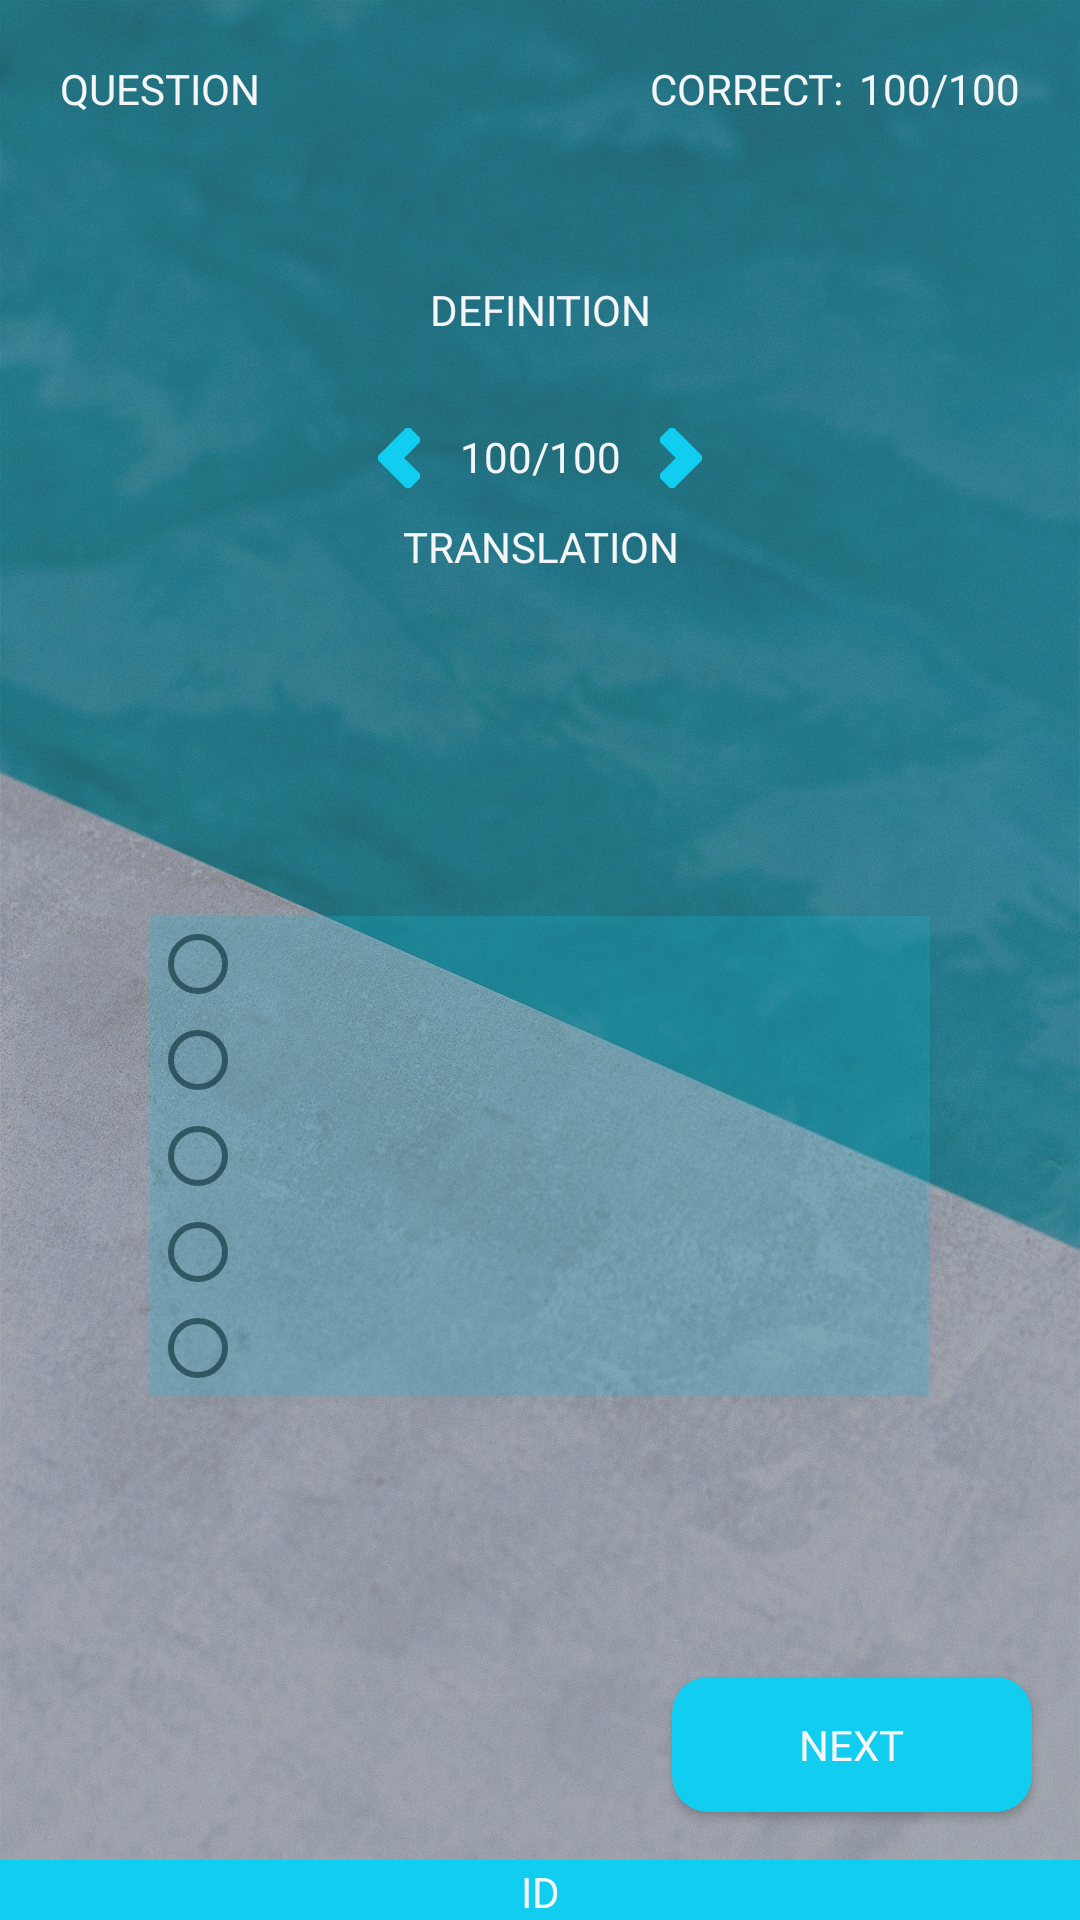

Icon bounding boxes for this 1080*1920 phone screenshot, format (x1, y1, x2, y2):
left: (378, 428, 420, 488)
right: (660, 428, 702, 488)
